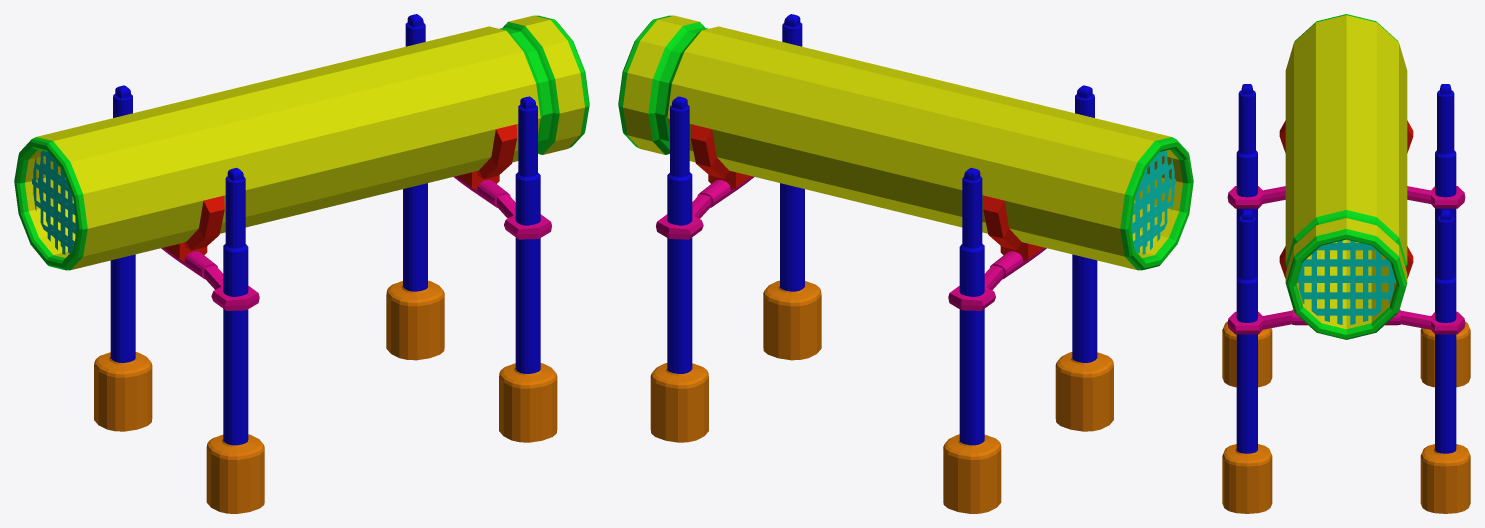
The model's file is PipeFragment.fbx.
The picture shows the model from 3 angles, left to right: view 1: azimuth 30°, elevation 25°; view 2: azimuth 150°, elevation 25°; view 3: azimuth 270°, elevation 25°; orthographic projection. The views are drawn at different scales.
Visible parts, largest first — view 1: Pipe; view 2: Pipe; view 3: Pipe.
Boxes of the visible parts, <box> form: Pipe: <box>14,14,589,513</box>; Pipe: <box>618,14,1193,513</box>; Pipe: <box>1222,14,1470,513</box>.
Bounding box in the file's own units: 10.47 × 6.86 × 5.01.
